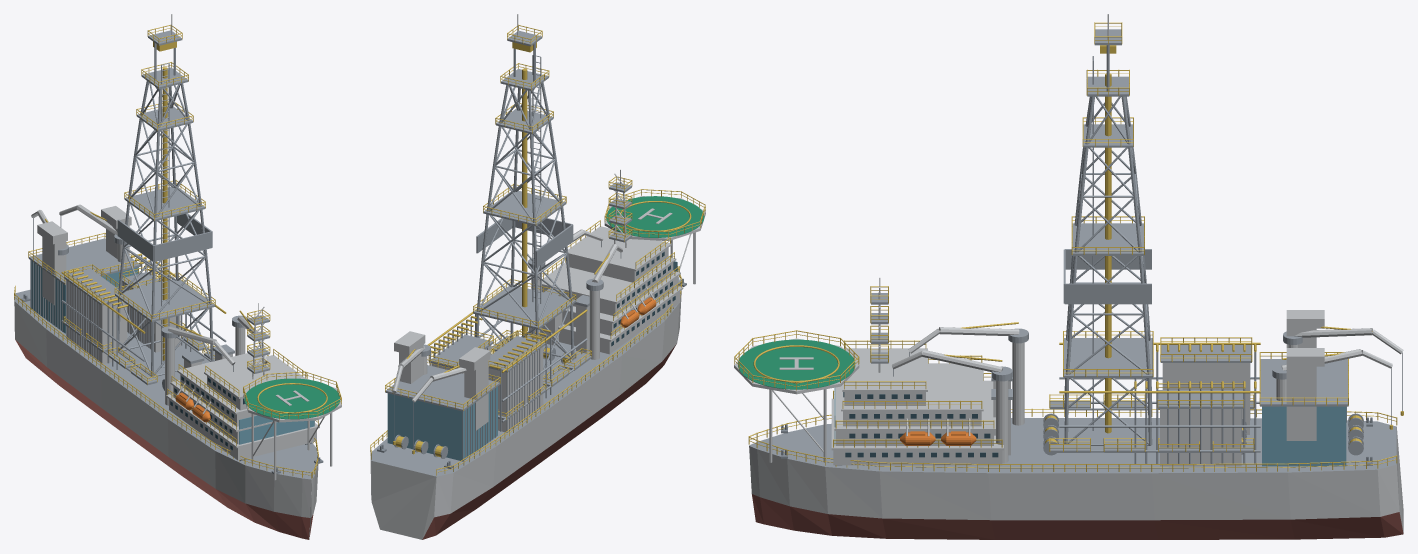
The model's file is offshore_drillship.glb.
3 views of the same model, side by side, from view 1: azimuth 30°, elevation 25°; view 2: azimuth 150°, elevation 25°; view 3: azimuth 270°, elevation 25° (orthographic). The views are drawn at different scales.
Parts seen in each view (by area): view 1: Offshore_Drillship; view 2: Offshore_Drillship; view 3: Offshore_Drillship.
Part boxes in pixels (box(x1,y1,x2,y2)): Offshore_Drillship: box(14, 14, 341, 539); Offshore_Drillship: box(370, 14, 705, 539); Offshore_Drillship: box(734, 14, 1403, 539).
Bounding box in the file's own units: 4.84 × 20.75 × 24.61.
